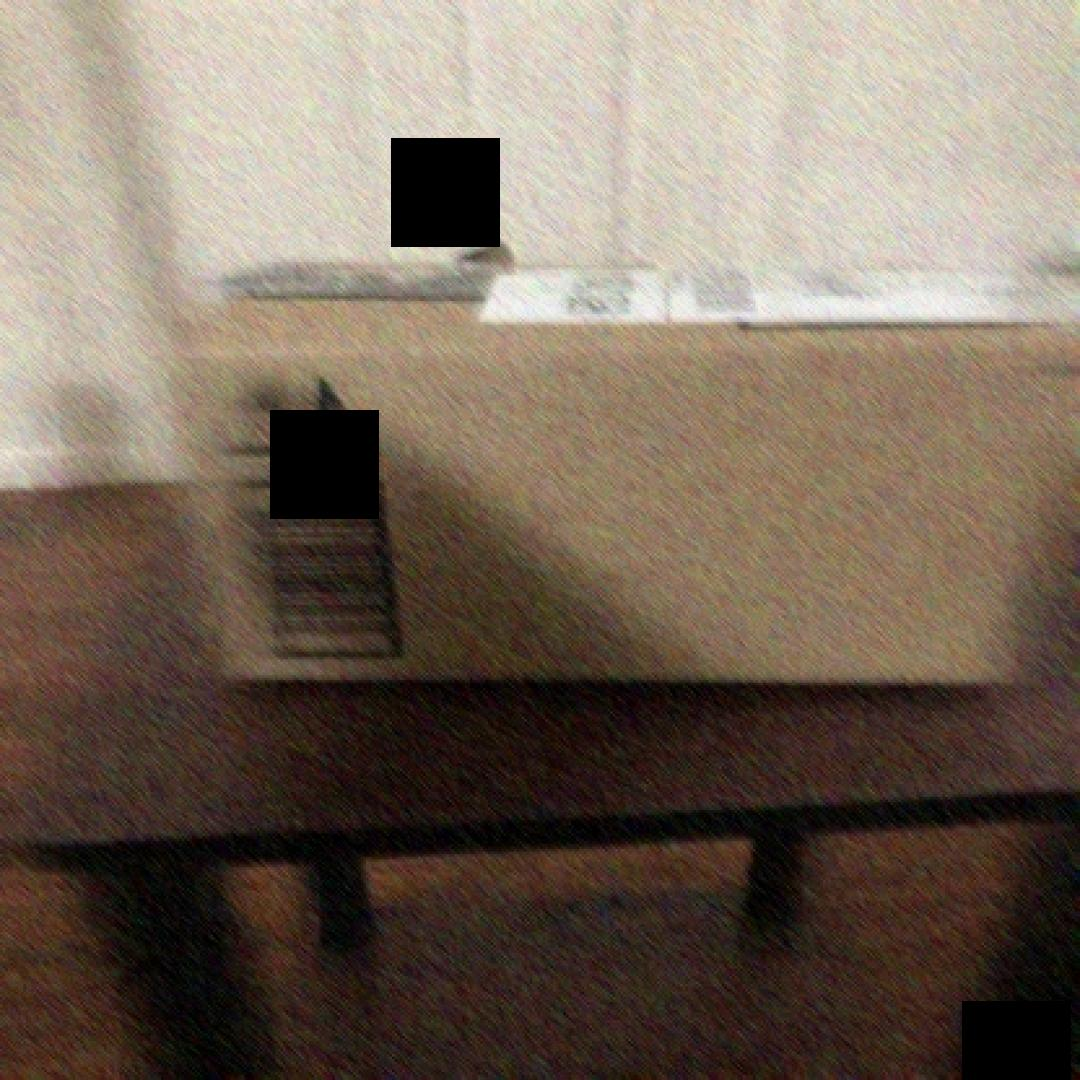package: (151, 249, 1078, 706)
